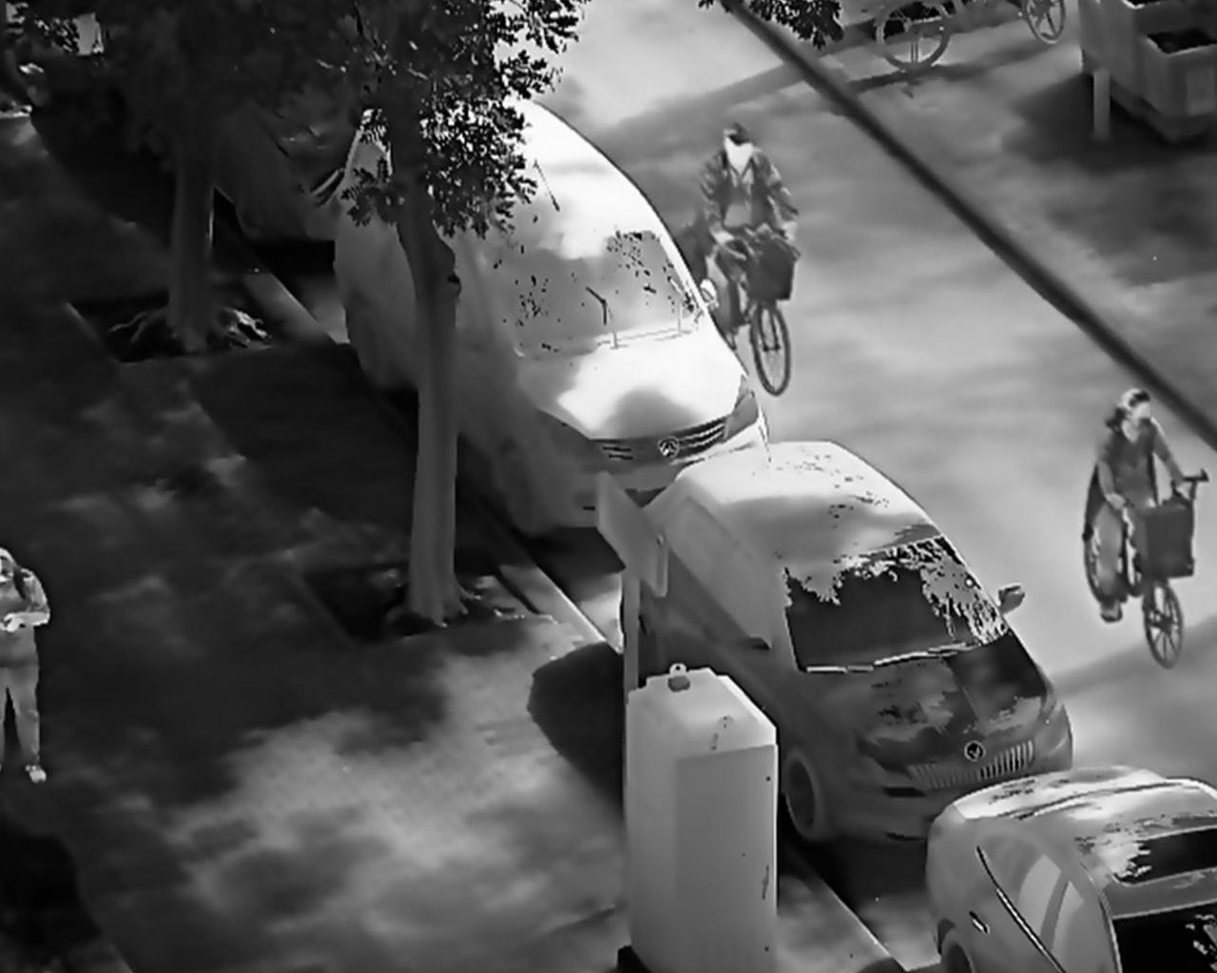person: (1082, 385, 1195, 627), (698, 120, 801, 350)
